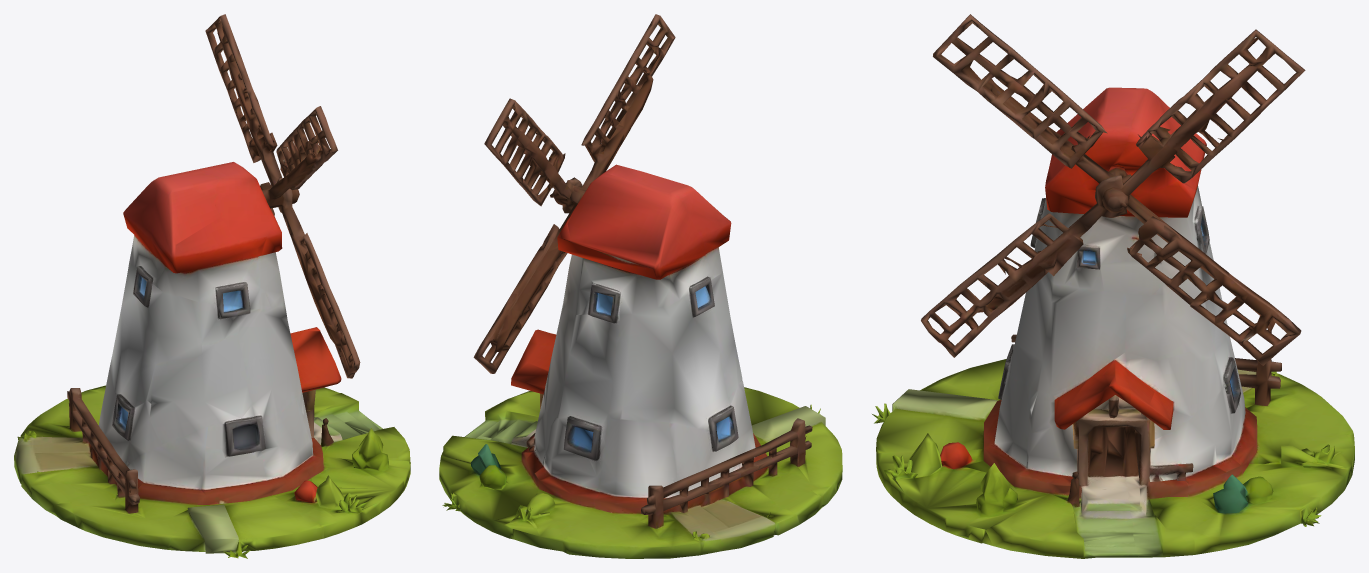
Rendered from windmill.glb.
3 views of the same model, side by side, from view 1: azimuth 30°, elevation 25°; view 2: azimuth 150°, elevation 25°; view 3: azimuth 270°, elevation 25° (orthographic). The views are drawn at different scales.
Parts seen in each view (by area): view 1: tripo_node_6771526e-6326-4397-a164-ac5aa8bb5a23; view 2: tripo_node_6771526e-6326-4397-a164-ac5aa8bb5a23; view 3: tripo_node_6771526e-6326-4397-a164-ac5aa8bb5a23.
Boxes of the visible parts, x1,y1,x2,y2 form: tripo_node_6771526e-6326-4397-a164-ac5aa8bb5a23: (14,14,410,558); tripo_node_6771526e-6326-4397-a164-ac5aa8bb5a23: (439,14,842,558); tripo_node_6771526e-6326-4397-a164-ac5aa8bb5a23: (872,14,1354,558).
Size of the model in its own units: 0.8871 by 0.9985 by 0.9242.
1 material, 1 textured.
